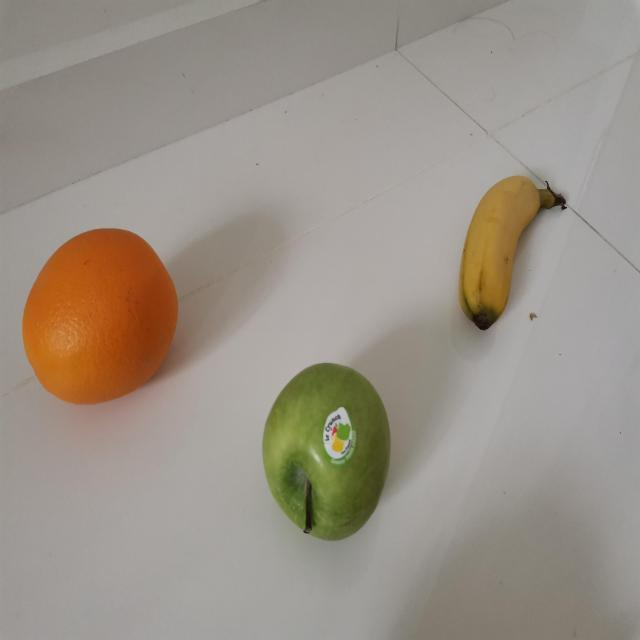Apple: (259, 360, 392, 541)
Banana: (457, 171, 571, 337)
Orange: (17, 225, 181, 409)
